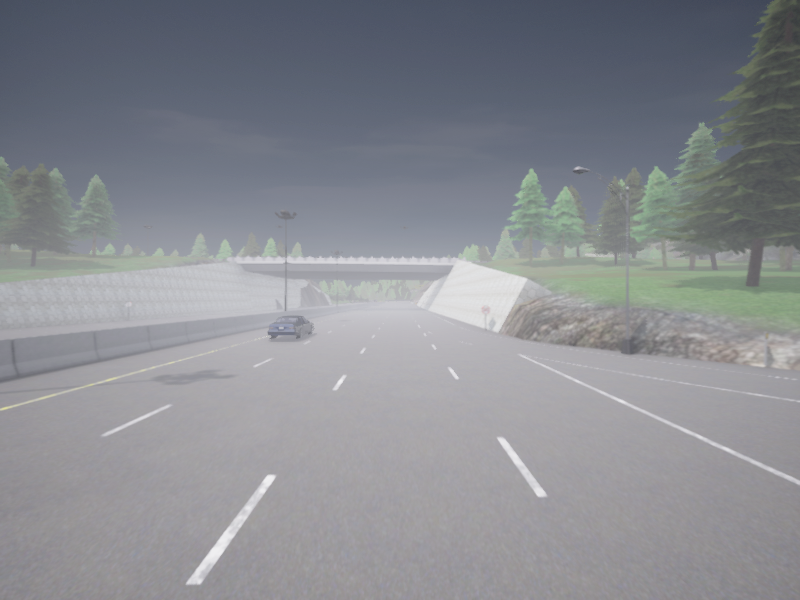vehicle: (267, 315, 313, 338)
